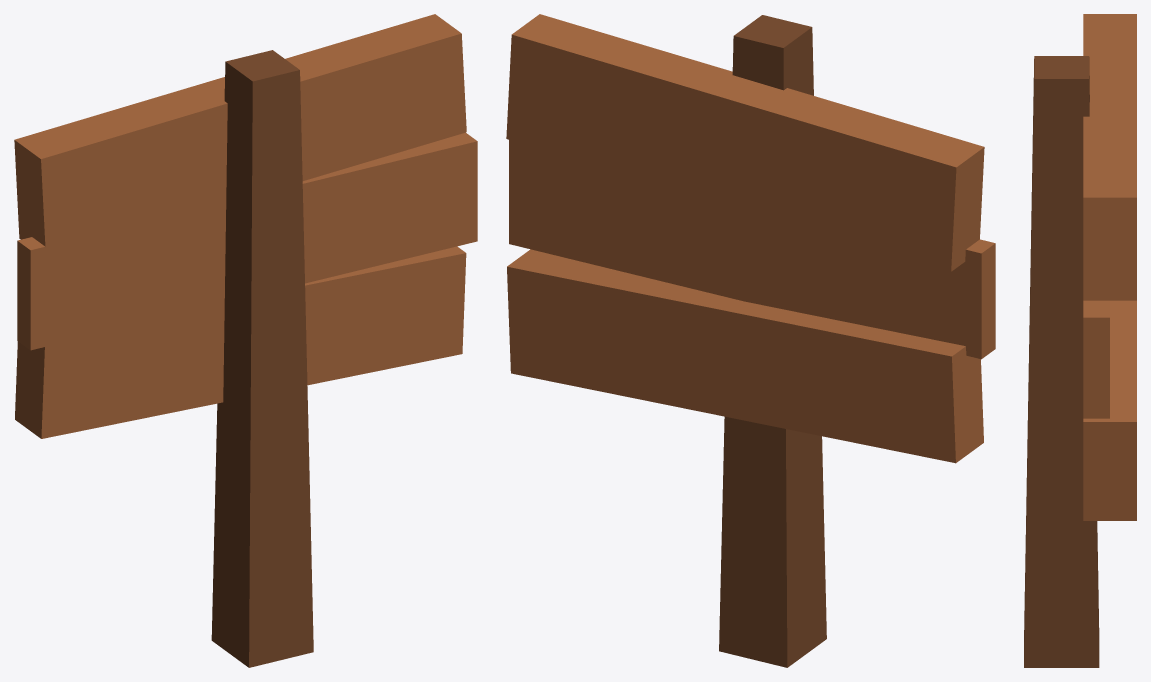
File: sign.glb
3 views of the same model, side by side, from view 1: azimuth 30°, elevation 25°; view 2: azimuth 150°, elevation 25°; view 3: azimuth 270°, elevation 25° (orthographic). The views are drawn at different scales.
Parts seen in each view (by area): view 1: sign; view 2: sign; view 3: sign.
Boxes of the visible parts, x1=… form: sign: x1=14, y1=14, x2=477, y2=667; sign: x1=506, y1=14, x2=995, y2=667; sign: x1=1024, y1=14, x2=1136, y2=667.
Size of the model in its own units: 0.4835 by 0.6 by 0.105.
